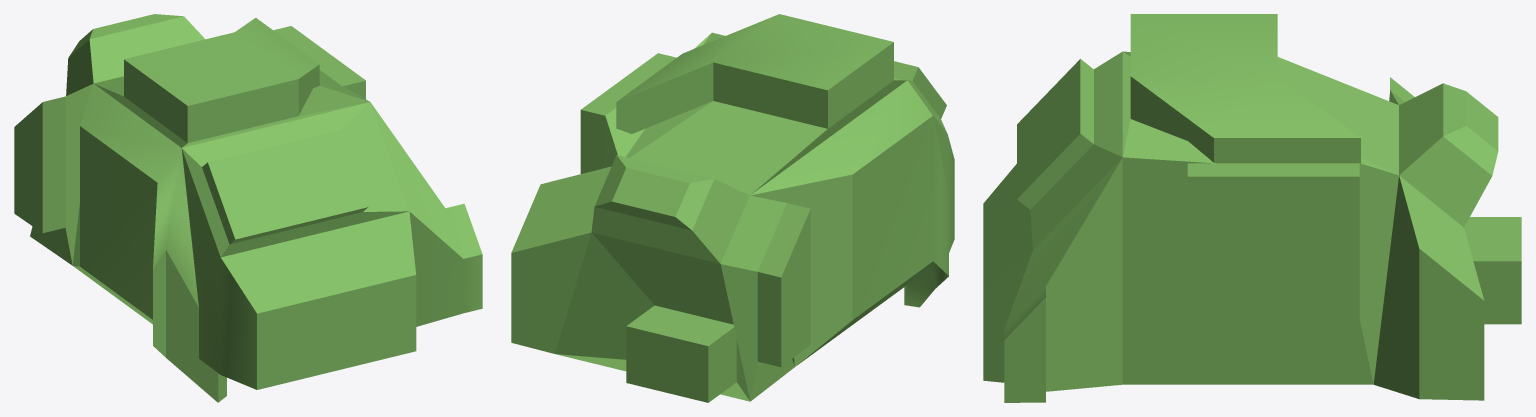
The model's file is Bush.fbx.
3 renders of one model, left to right at view 1: azimuth 30°, elevation 25°; view 2: azimuth 150°, elevation 25°; view 3: azimuth 270°, elevation 25°, orthographic. The views are drawn at different scales.
Visible parts, largest first — view 1: Bush; view 2: Bush; view 3: Bush.
Part boxes in pixels (x1,y1,x2,y2): Bush: [14, 14, 482, 402]; Bush: [511, 14, 954, 402]; Bush: [983, 14, 1521, 402].
Bounding box in the file's own units: 1.5 × 1.4 × 2.15.
